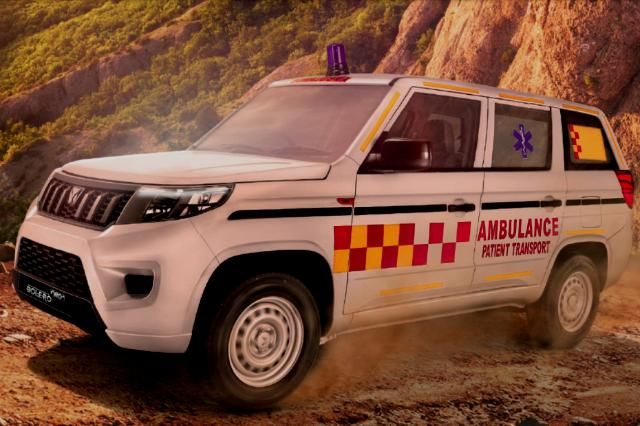ambulance: (10, 57, 636, 393)
